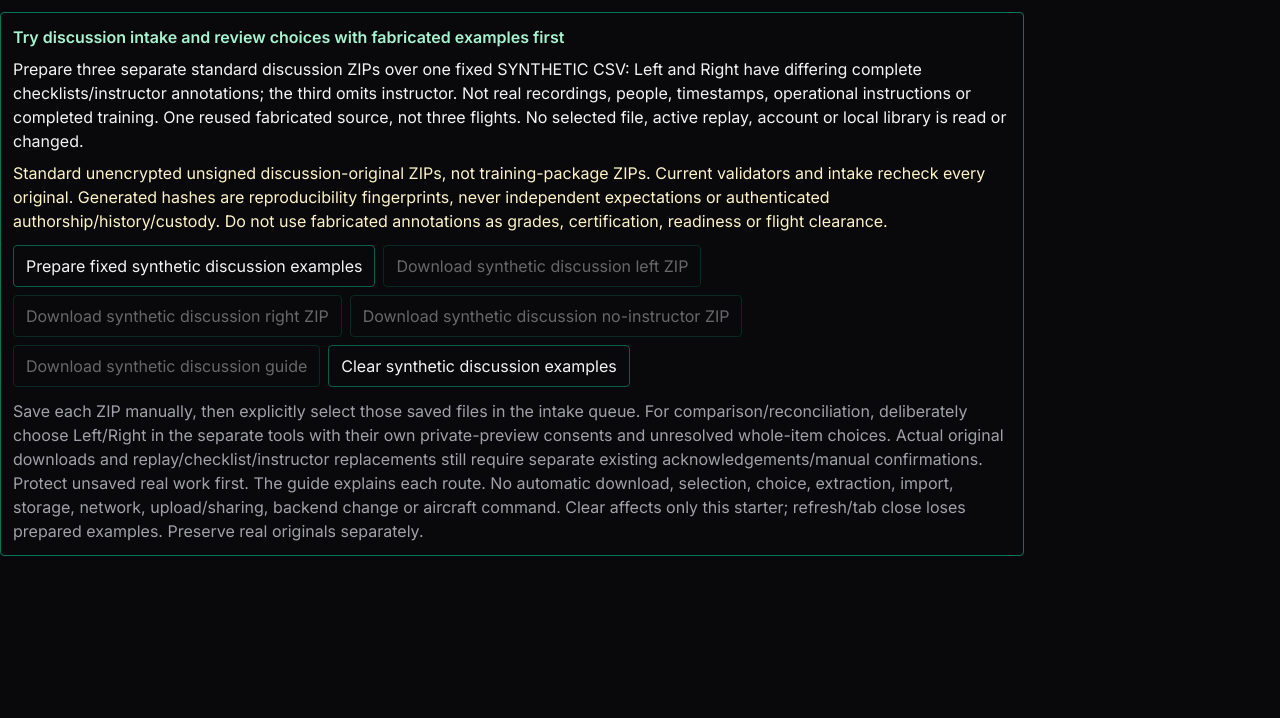
Test: only separate explicit actions download each fixed-name ZIP/guide; clear retains saved outputs and other tools
This screenshot has width=1280, height=718.
Click the button "Prepare fixed synthetic discussion examples" at (194, 266), box [13,245,376,287]
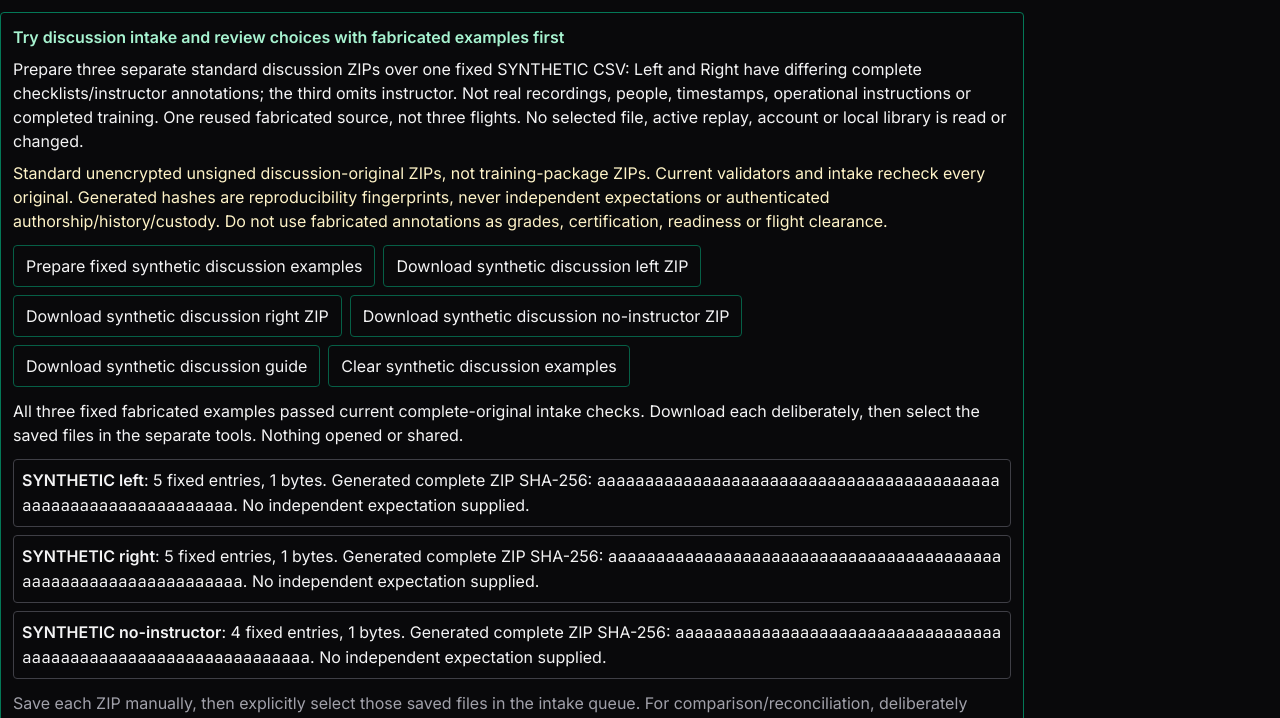
Result: the list named "Prepared synthetic discussion examples" is shown at [13,459,1011,679]
Click the button "Download synthetic discussion left ZIP" at (542, 266), box [384,245,701,287]
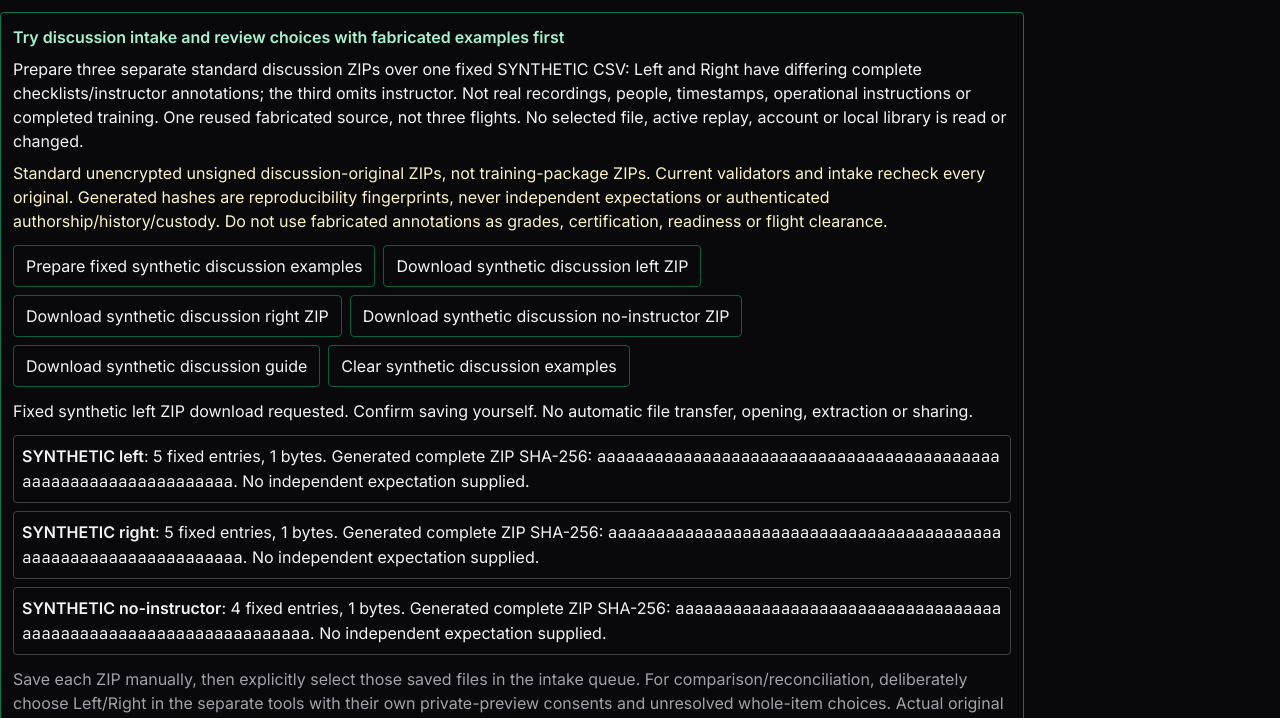
Click the button "Download synthetic discussion right ZIP" at (177, 316), box [13,295,342,337]
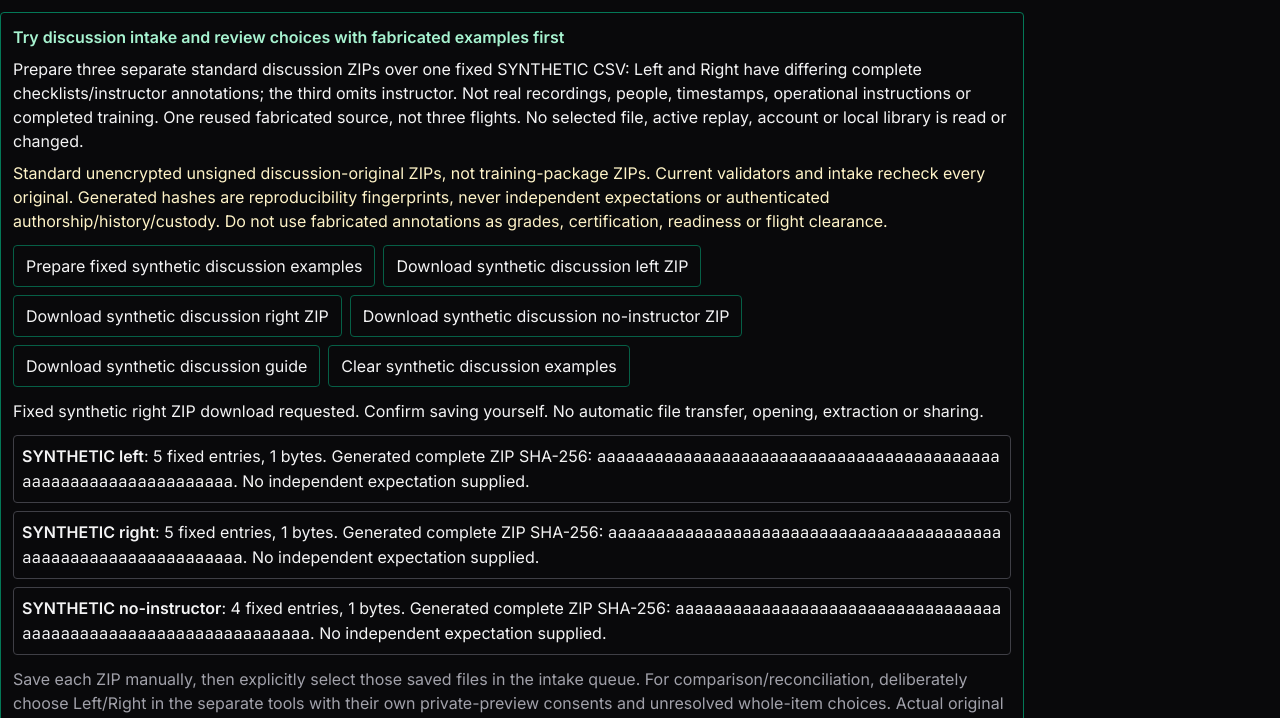
Click the button "Download synthetic discussion no-instructor ZIP" at (546, 316), box [350,295,742,337]
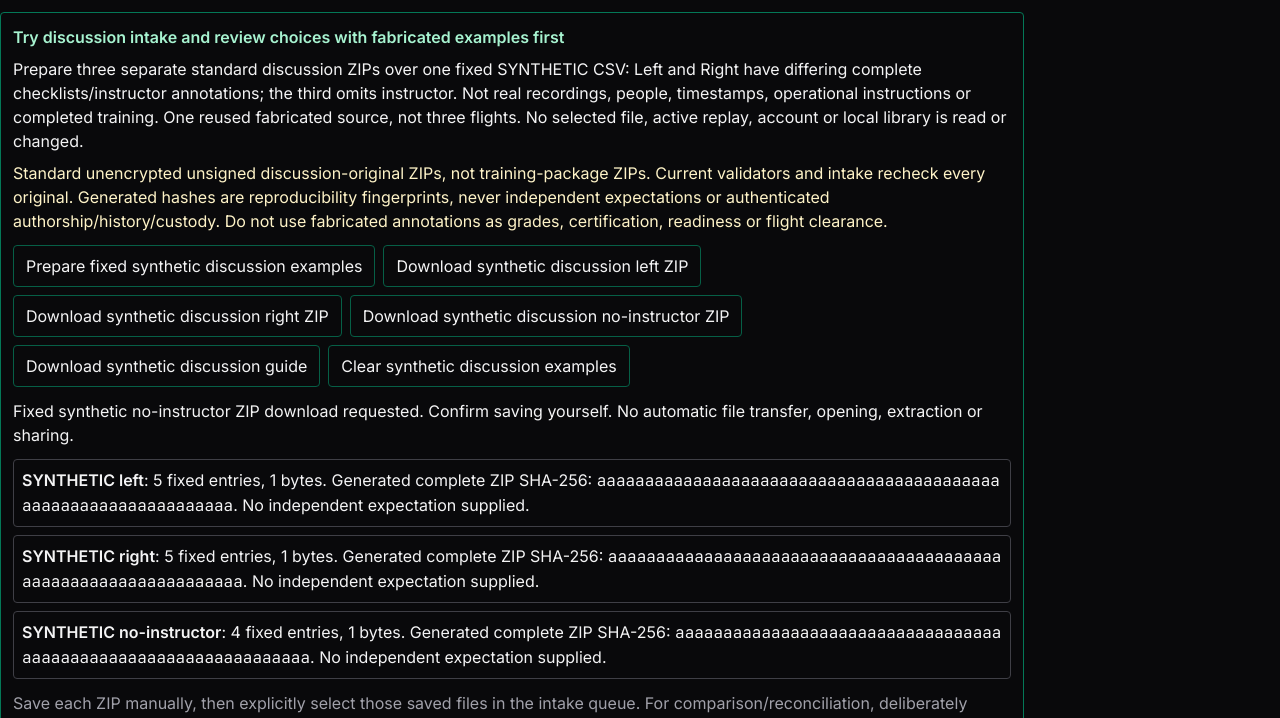
Click the button "Download synthetic discussion guide" at (167, 366), box [13,345,320,387]
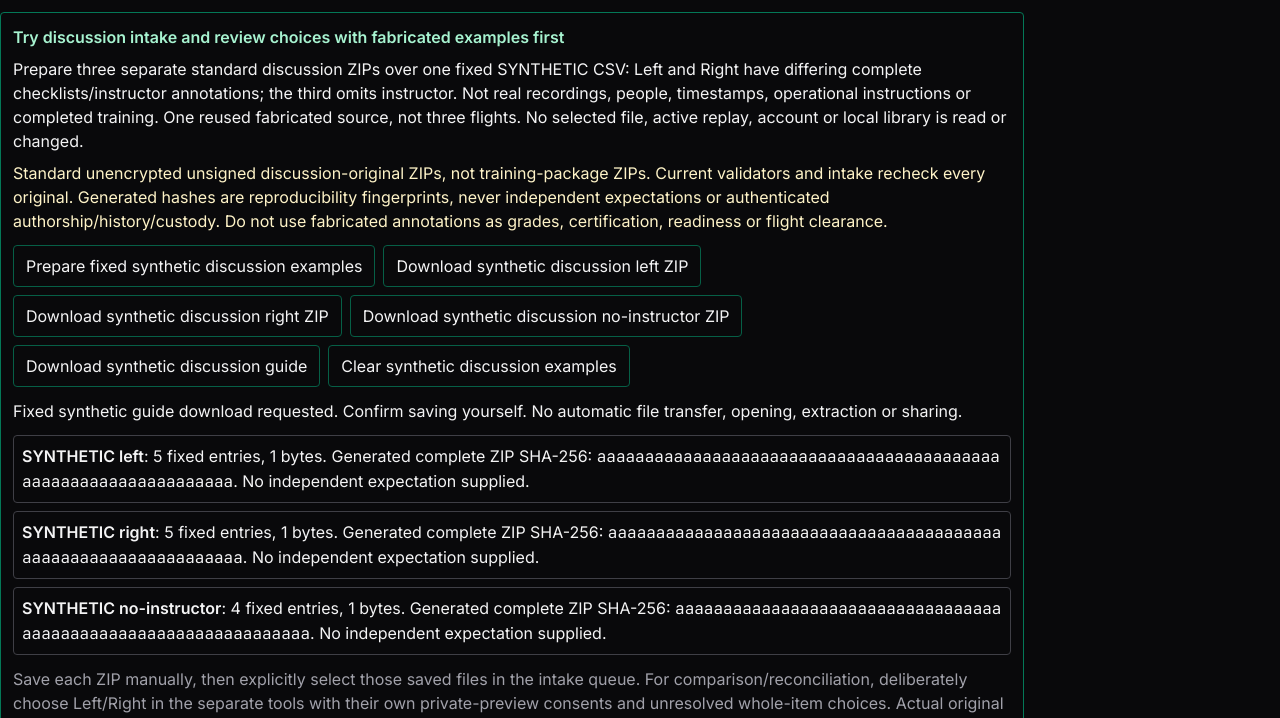
Click the button "Clear synthetic discussion examples" at (479, 366), box [328,345,630,387]
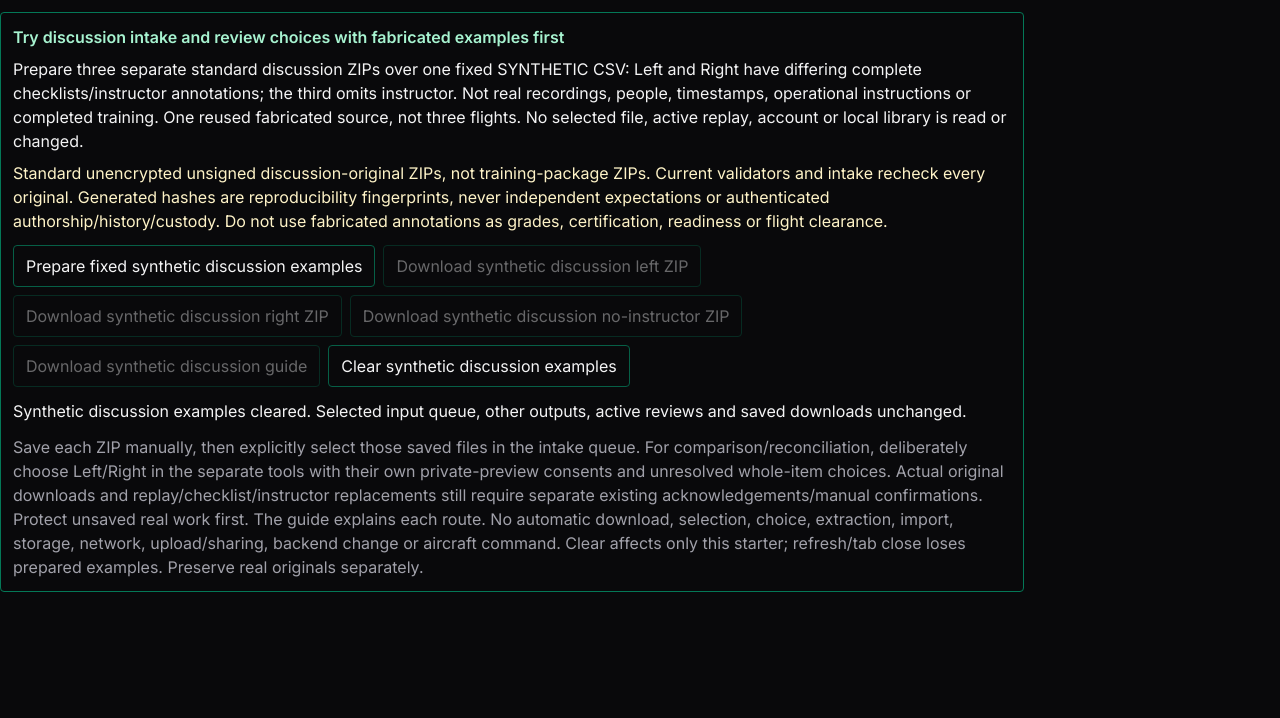
Result: the message shows "Selected input queue, other outputs, active reviews and saved downloads unchanged" at [13,401,967,421]
